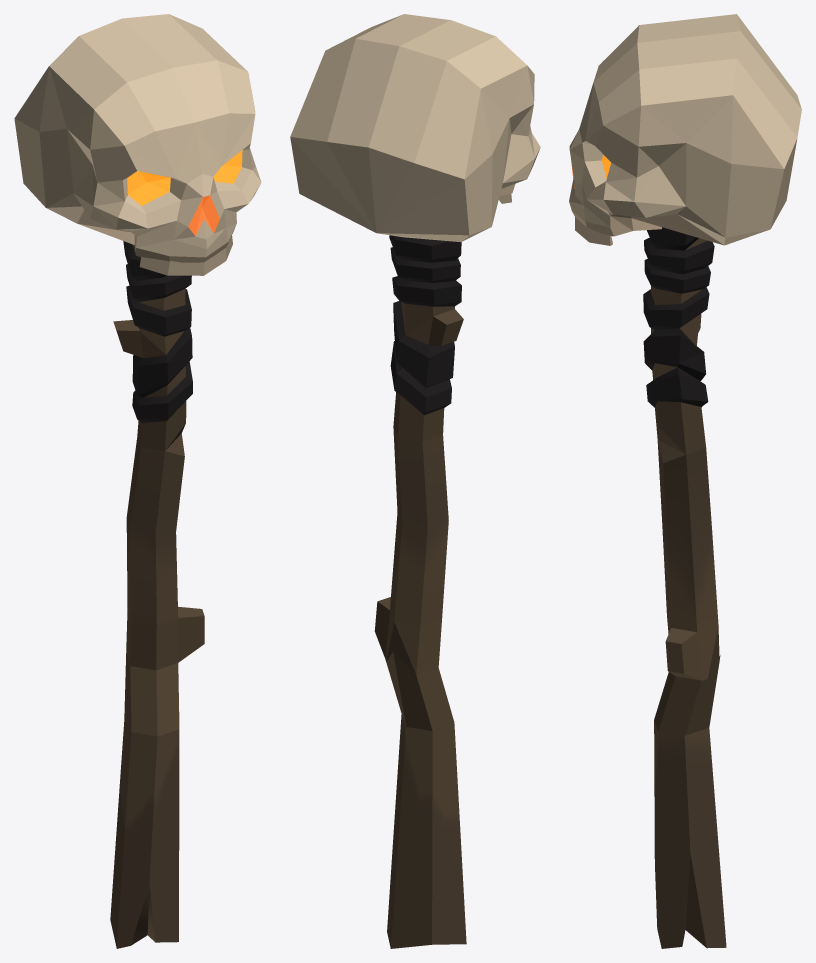
Rendered from torch_stand.gltf.
3 renders of one model, left to right at view 1: azimuth 30°, elevation 25°; view 2: azimuth 150°, elevation 25°; view 3: azimuth 270°, elevation 25°, orthographic.
Visible parts, largest first — view 1: torch_stand; view 2: torch_stand; view 3: torch_stand.
Boxes of the visible parts, x1=… form: torch_stand: x1=14, y1=14, x2=261, y2=948; torch_stand: x1=290, y1=14, x2=540, y2=948; torch_stand: x1=569, y1=14, x2=801, y2=948.
Bounding box in the file's own units: 0.2506 × 1.23 × 0.2867.
Materials: 1 (1 with a texture image).
